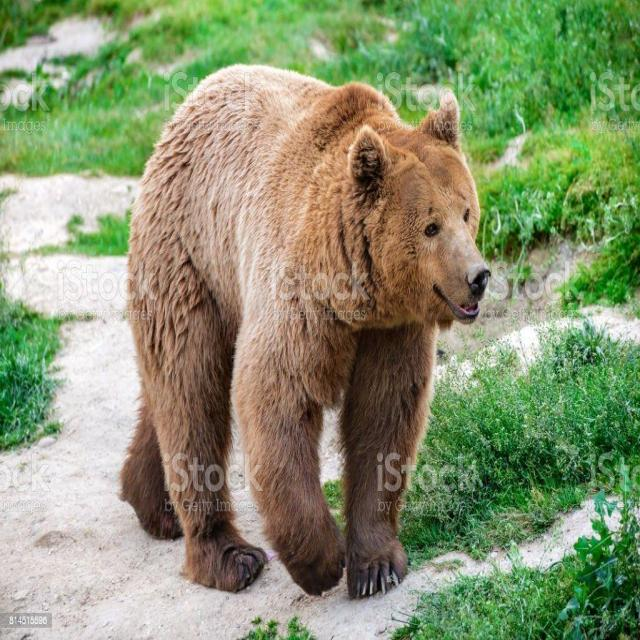Bear: (120, 65, 492, 603)
